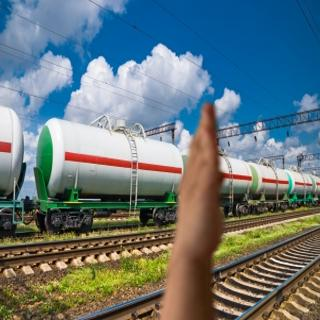RIGHT: (167, 96, 234, 264)
